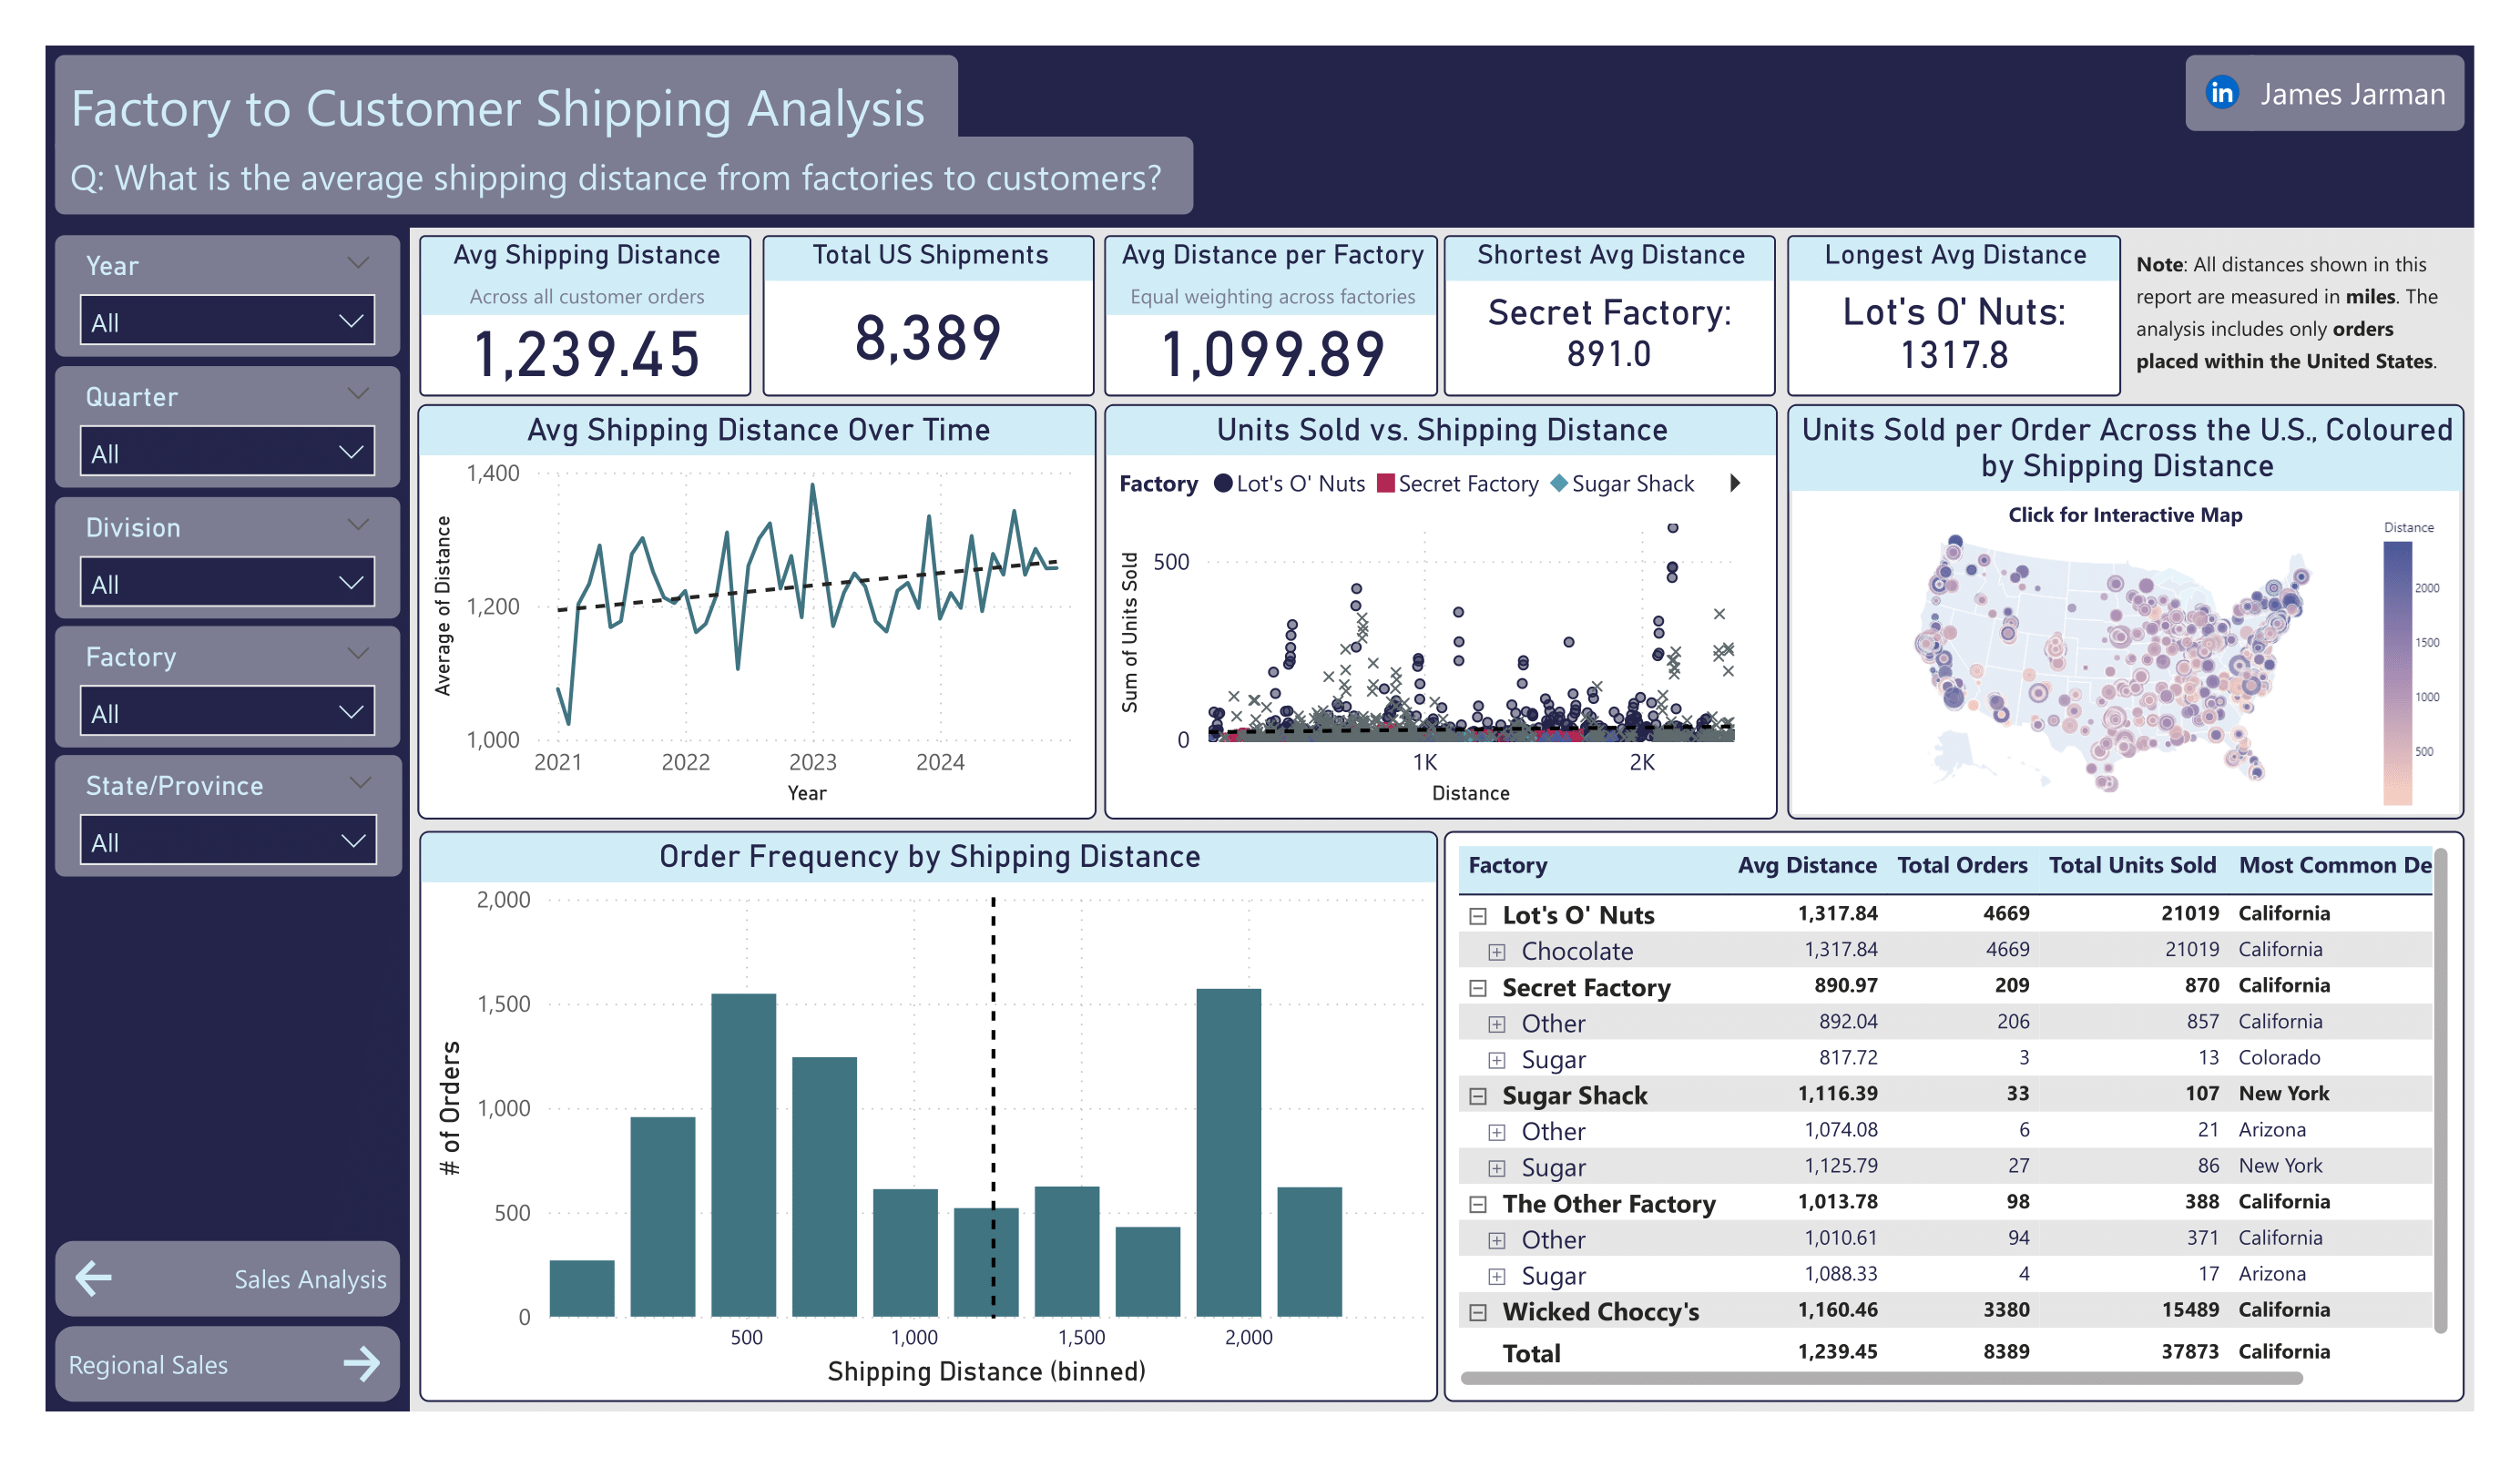

The dashboard page shown, as its layout file describes it:
{"tool":"powerbi","page":{"name":"2. Factory to Customer Shipping Analysis","canvas":[1280,720],"ordinal":2},"visuals":[{"type":"scatterChart","title":"Units Sold vs. Shipping Distance","fields":{"X":["shipping_analysis.Distance"],"Series":["shipping_analysis.Factory"],"Y":["Sum(shipping_analysis.Units Sold)"]},"box":[557.9,188.9,354.8,219.1],"z":0},{"type":"lineChart","title":"Avg Shipping Distance Over Time","fields":{"Category":["shipping_analysis.Order_Date.Variation.Date Hierarchy.Year","shipping_analysis.Order_Date.Variation.Date Hierarchy.Month"],"Y":["Avg(shipping_analysis.Distance_Miles)"]},"box":[196,188.9,357.5,219.1],"z":1000},{"type":"card","title":"Longest Avg Distance","fields":{"Values":["shipping_analysis.Longest Avg Distance Factory"]},"box":[918.5,100.2,175.2,85.1],"z":2000},{"type":"card","title":"Shortest Avg Distance","fields":{"Values":["shipping_analysis.FactoryWithShortestAvgDistance"]},"box":[736.8,100.2,175,85.1],"z":3000},{"type":"card","title":"Avg Distance per Factory","fields":{"Values":["shipping_analysis.Avg Shipping Distance"]},"box":[558.3,100.2,175.6,85.1],"z":4000},{"type":"card","title":"Total US Shipments","fields":{"Values":["CountNonNull(shipping_analysis.Order_ID)"]},"box":[378.2,100.2,175.2,85.1],"z":5000},{"type":"card","title":"Avg Shipping Distance","fields":{"Values":["Avg(shipping_analysis.Distance_Miles)"]},"box":[197,100,175.5,84.9],"z":6000},{"type":"shape","title":"Left-side Shape","box":[0,95.6,192,624.4],"z":7000},{"type":"actionButton","title":"Next Page Button","box":[5,675,181.9,40],"z":8000},{"type":"actionButton","title":"Previous Page Button","box":[5,630,181.9,40],"z":9000},{"type":"slicer","title":"Quarter Slicer","fields":{"Values":["sales_analysis.Division"]},"box":[5.2,238,182,63.6],"z":10000},{"type":"slicer","title":"Year Slicer","fields":{"Values":["sales_analysis.Order Date.Variation.Date Hierarchy.Quarter"]},"box":[5.2,169,182,64],"z":11000},{"type":"slicer","title":"Division Slicer","fields":{"Values":["sales_analysis.Order Date.Variation.Date Hierarchy.Year"]},"box":[5,100,182,64],"z":12000},{"type":"shape","title":"Header Shape","box":[0,0,1280,95.6],"z":13000},{"type":"actionButton","title":"LinkedIn Button","box":[1127.6,5,40,40],"z":14000},{"type":"textbox","title":"Question","box":[5,47.9,600,41.2],"z":15000},{"type":"textbox","title":"Page Title","box":[5.3,5.3,476,52.3],"z":16000},{"type":"actionButton","title":"JJ Button","box":[1157.9,5,116.9,40],"z":17000},{"type":"slicer","title":"Quarter Slicer","fields":{"Values":["shipping_analysis.Factory"]},"box":[5.3,306,182.1,63.6],"z":18000},{"type":"textbox","box":[1096.6,100,178.2,84.9],"z":19000},{"type":"actionButton","title":"Link to Interactive Map","box":[918.1,188.9,356.6,219.1],"z":20000},{"type":"pivotTable","fields":{"Values":["Avg(shipping_analysis.Distance)","CountNonNull(shipping_analysis.Order ID)","Sum(shipping_analysis.Units Sold)","shipping_analysis.MostCommonState"],"Rows":["shipping_analysis.Factory","candy_products.Division","candy_products.Product Name"]},"box":[737.1,414.2,537.5,300.7],"z":21000},{"type":"slicer","title":"Quarter Slicer","fields":{"Values":["shipping_analysis.State_Province"]},"box":[5.3,374,182.7,63.9],"z":22000},{"type":"columnChart","title":"Order Frequency by Shipping Distance","fields":{"Category":["shipping_analysis.Distance (bins)"],"Y":["CountNonNull(shipping_analysis.Order ID)"]},"box":[196.9,414.2,536.7,300.7],"z":23000}]}

Visuals, with their boxes on the page's 1280x720 design canvas (x1, y1, x2, y2). These are canvas units, not pixel positions in the 2520x1457 screenshot, which may show the page scaled, cropped or inside an application window:
"Units Sold vs. Shipping Distance" scatterChart: crop(558, 189, 913, 408)
"Avg Shipping Distance Over Time" lineChart: crop(196, 189, 554, 408)
"Longest Avg Distance" card: crop(918, 100, 1094, 185)
"Shortest Avg Distance" card: crop(737, 100, 912, 185)
"Avg Distance per Factory" card: crop(558, 100, 734, 185)
"Total US Shipments" card: crop(378, 100, 553, 185)
"Avg Shipping Distance" card: crop(197, 100, 372, 185)
"Left-side Shape" shape: crop(0, 96, 192, 720)
"Next Page Button" actionButton: crop(5, 675, 187, 715)
"Previous Page Button" actionButton: crop(5, 630, 187, 670)
"Quarter Slicer" slicer: crop(5, 238, 187, 302)
"Year Slicer" slicer: crop(5, 169, 187, 233)
"Division Slicer" slicer: crop(5, 100, 187, 164)
"Header Shape" shape: crop(0, 0, 1280, 96)
"LinkedIn Button" actionButton: crop(1128, 5, 1168, 45)
"Question" textbox: crop(5, 48, 605, 89)
"Page Title" textbox: crop(5, 5, 481, 58)
"JJ Button" actionButton: crop(1158, 5, 1275, 45)
"Quarter Slicer" slicer: crop(5, 306, 187, 370)
textbox: crop(1097, 100, 1275, 185)
"Link to Interactive Map" actionButton: crop(918, 189, 1275, 408)
pivotTable - Avg(shipping_analysis.Distance) x CountNonNull(shipping_analysis.Order ID): crop(737, 414, 1275, 715)
"Quarter Slicer" slicer: crop(5, 374, 188, 438)
"Order Frequency by Shipping Distance" columnChart: crop(197, 414, 734, 715)
